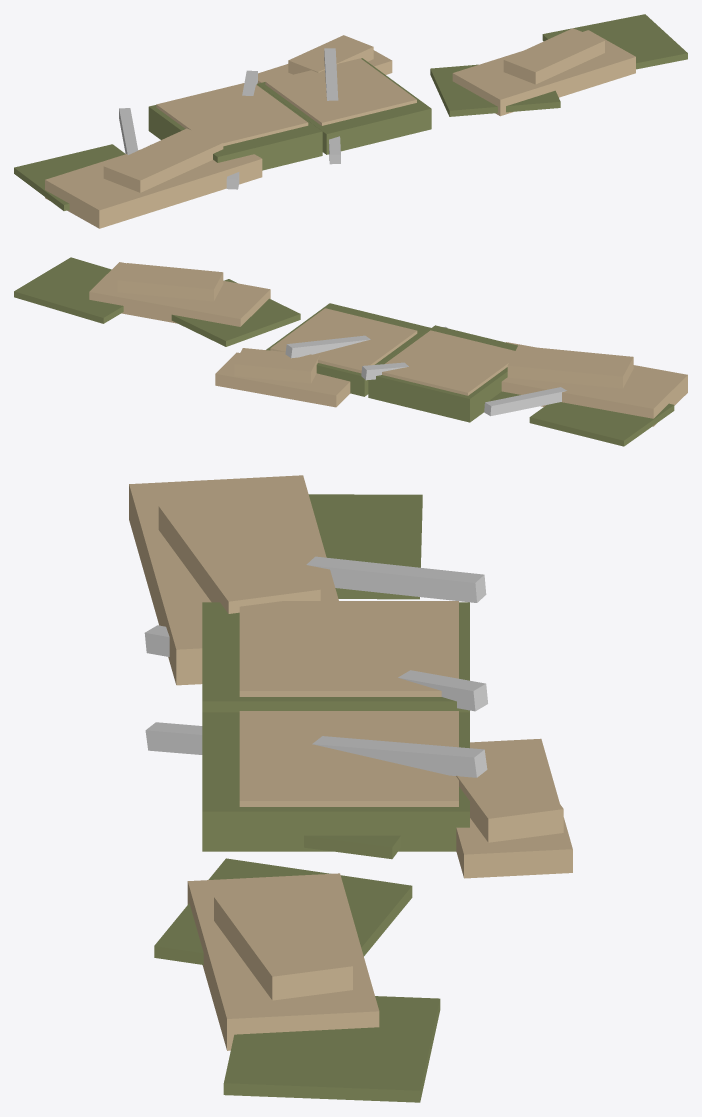
Rendered from SM_HescoCorto3_v0_MallaLimpia_e3_Brecha_LOD1.fbx.
The picture shows the model from 3 angles, top to bottom: view 1: azimuth 30°, elevation 25°; view 2: azimuth 150°, elevation 25°; view 3: azimuth 270°, elevation 25°; orthographic projection. The views are drawn at different scales.
Parts seen in each view (by area): view 1: SM_hesco_piezas_v83_LOD1; view 2: SM_hesco_piezas_v83_LOD1; view 3: SM_hesco_piezas_v83_LOD1.
Part boxes in pixels (left/top/right/bottom): SM_hesco_piezas_v83_LOD1: left=14, top=14, right=687, bottom=228; SM_hesco_piezas_v83_LOD1: left=14, top=257, right=687, bottom=446; SM_hesco_piezas_v83_LOD1: left=129, top=475, right=572, bottom=1102.
Bounding box in the file's own units: 6.44 × 0.351 × 2.02.
